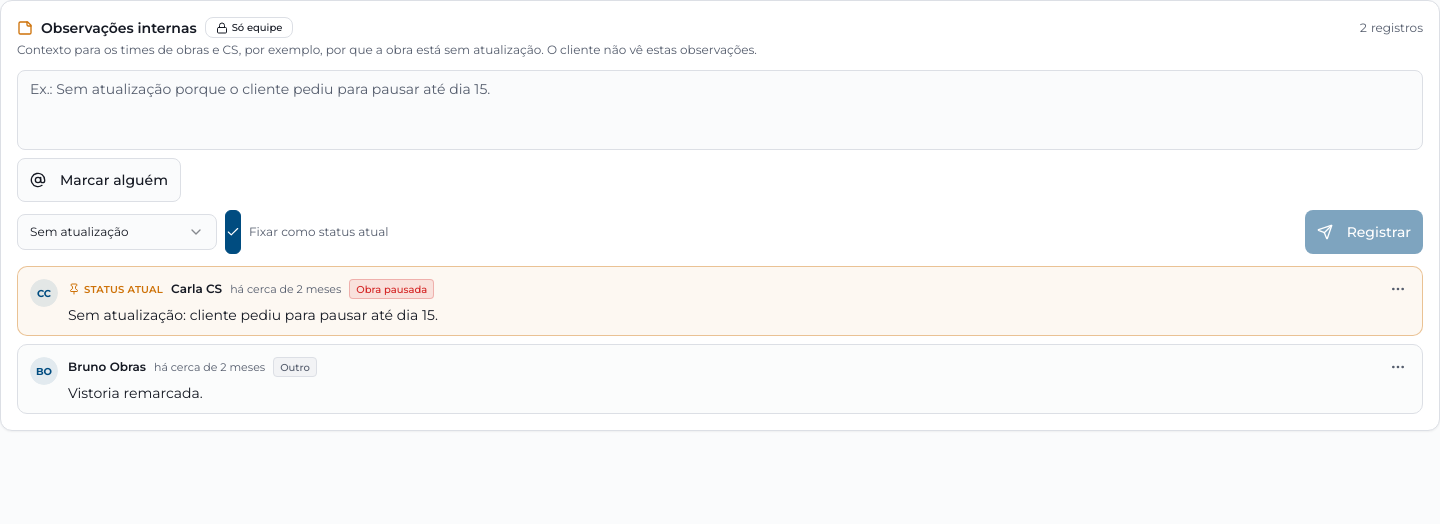
Test case: InternalNotesCard › gestor pode editar e remover nota de outro autor
Click the button named "Ações da observação" in the row of "Outro" at (1398, 367), box left=1386, top=355, right=1410, bottom=379
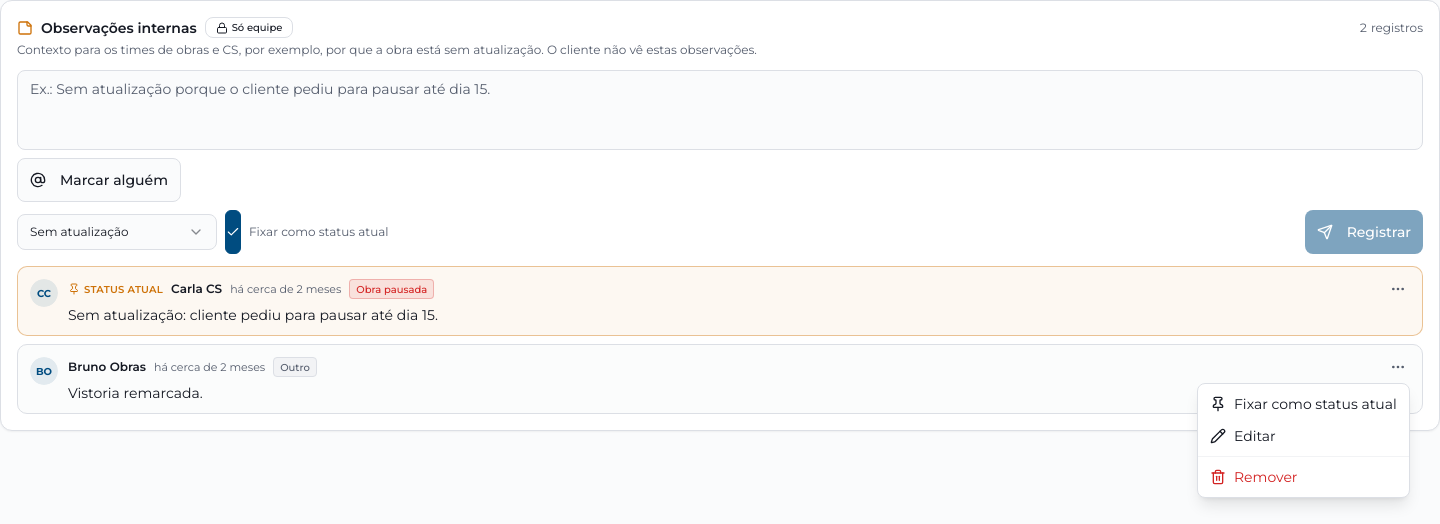
Expected: the menu item "Editar" is shown, left=1210, top=427, right=1276, bottom=445
Expected: the menu item "Remover" is shown, left=1210, top=468, right=1298, bottom=486
